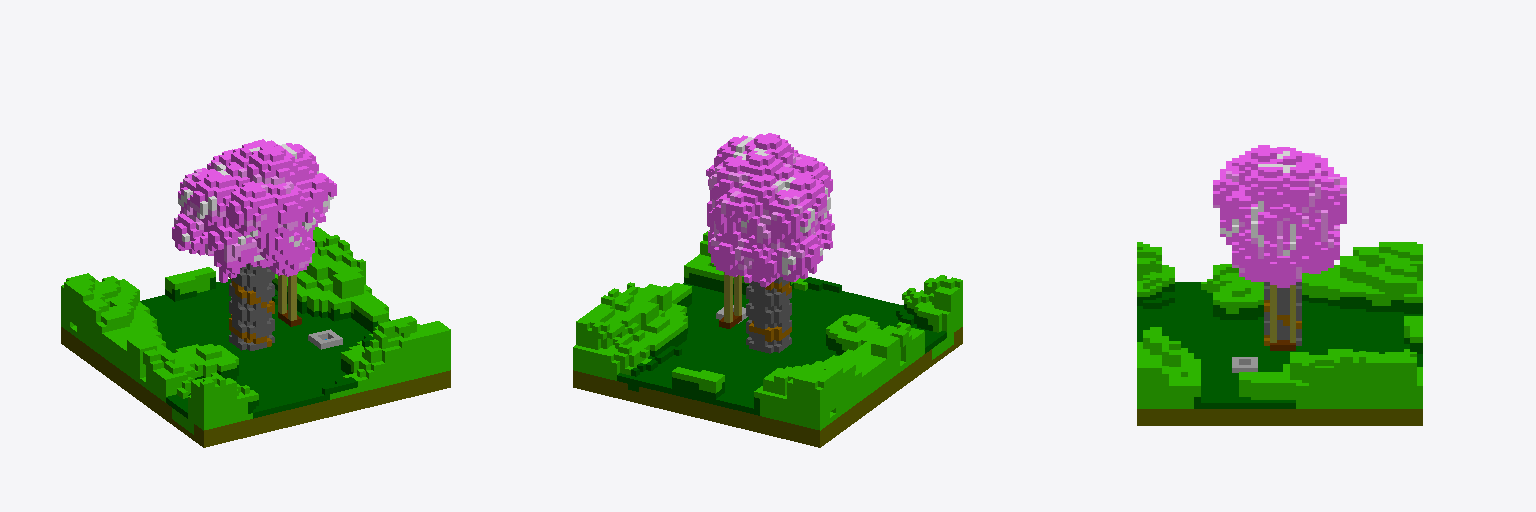
The picture shows the model from 3 angles: view 1: azimuth 30°, elevation 25°; view 2: azimuth 150°, elevation 25°; view 3: azimuth 270°, elevation 25°; orthographic projection.
Bounding box in the file's own units: 45 × 38 × 45.
1 materials, 1 textured.